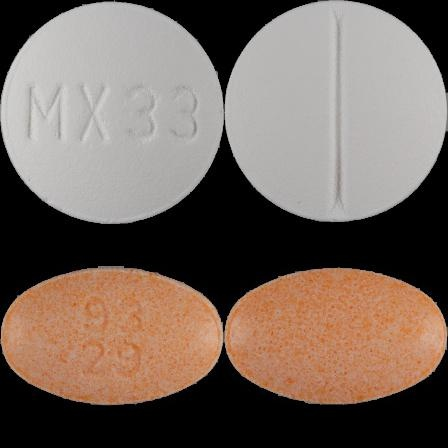53808-0647: (0, 0, 224, 224)
